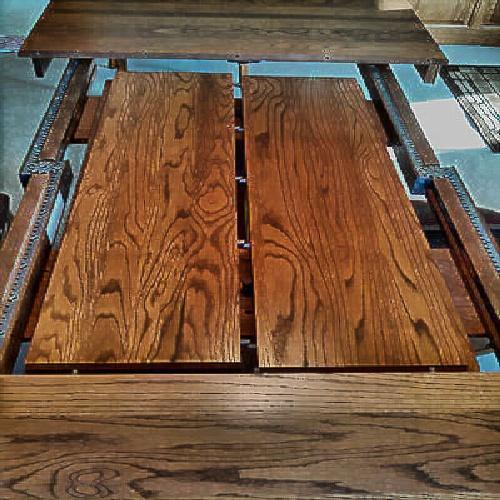table: (67, 47, 438, 413)
